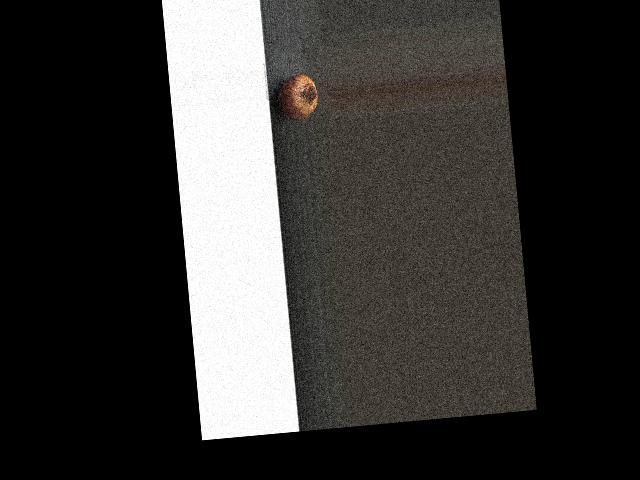beet: (276, 73, 319, 122)
